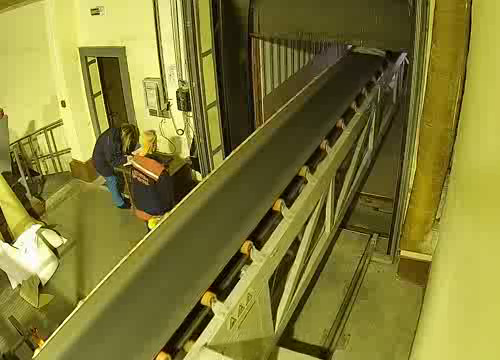bag: (348, 44, 387, 58)
